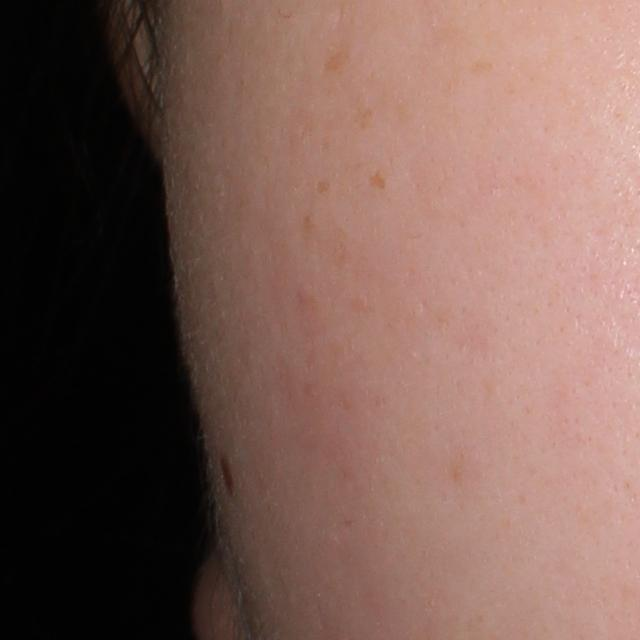melasma: (317, 45, 359, 78), (351, 100, 378, 132), (465, 56, 496, 77), (366, 170, 389, 193), (315, 178, 336, 196)
